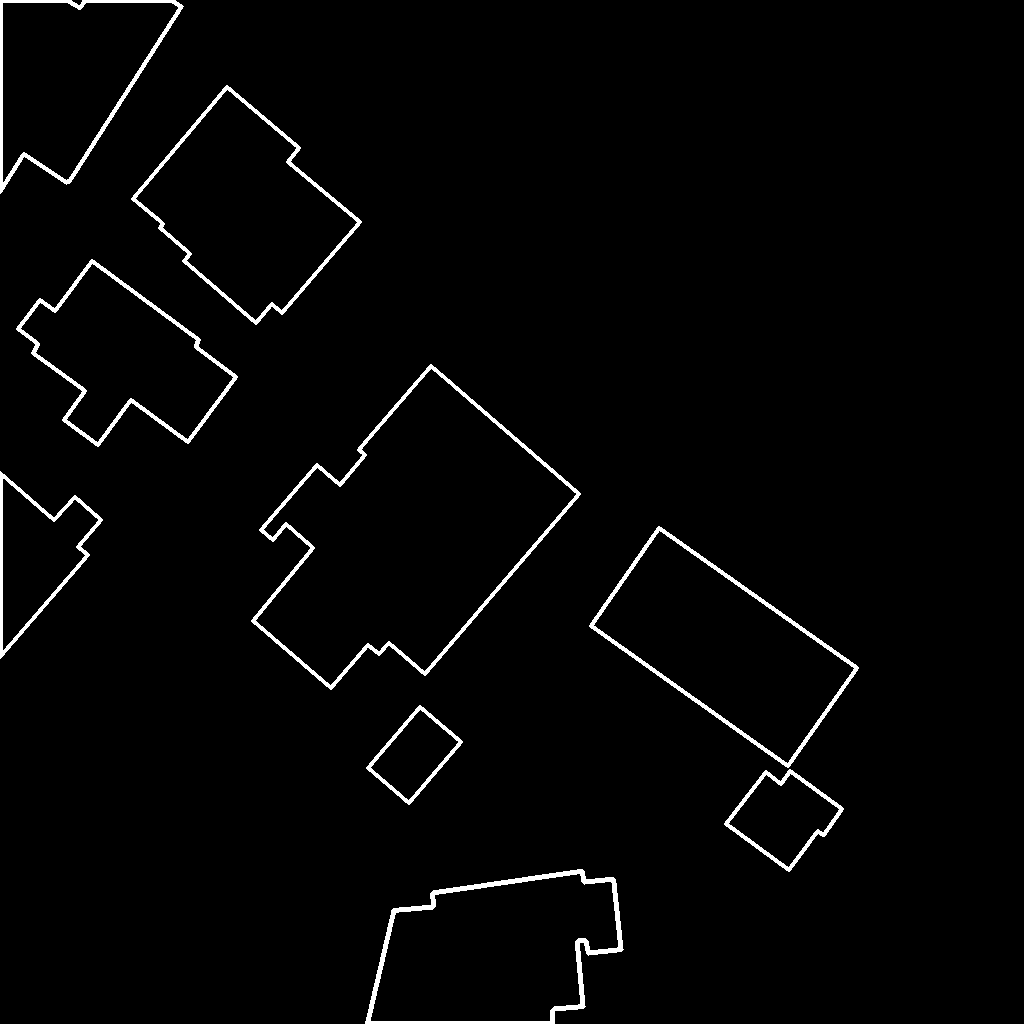building: (253, 366, 580, 689), (591, 528, 858, 767), (133, 87, 361, 324), (18, 261, 237, 446), (367, 871, 622, 1024), (0, 0, 183, 193), (0, 473, 102, 658), (726, 771, 843, 871), (368, 707, 462, 804)
